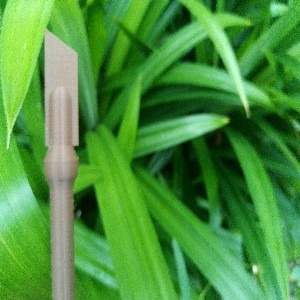cutter: (41, 26, 80, 300)
